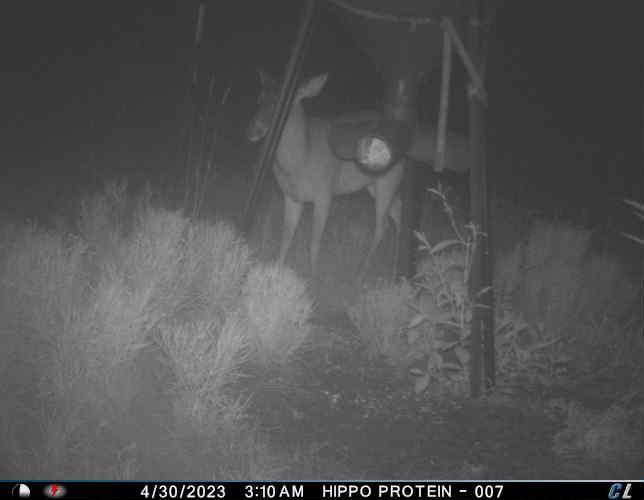Deer: (245, 64, 405, 281)
